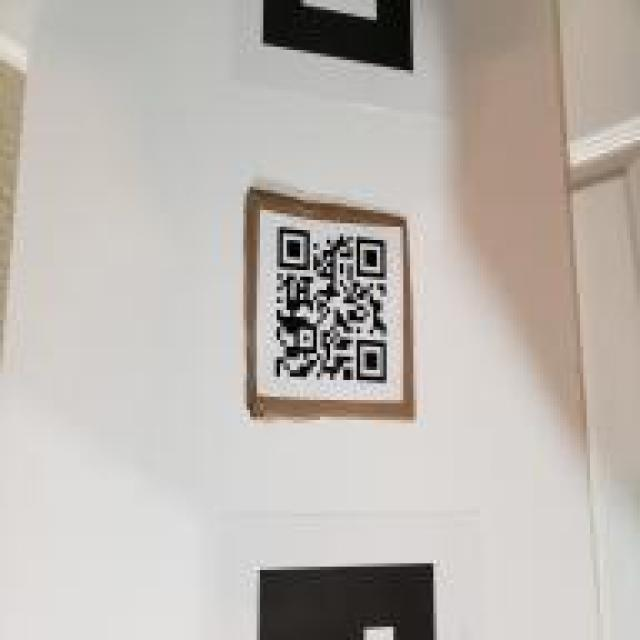QR_CODE: (270, 220, 393, 393)
